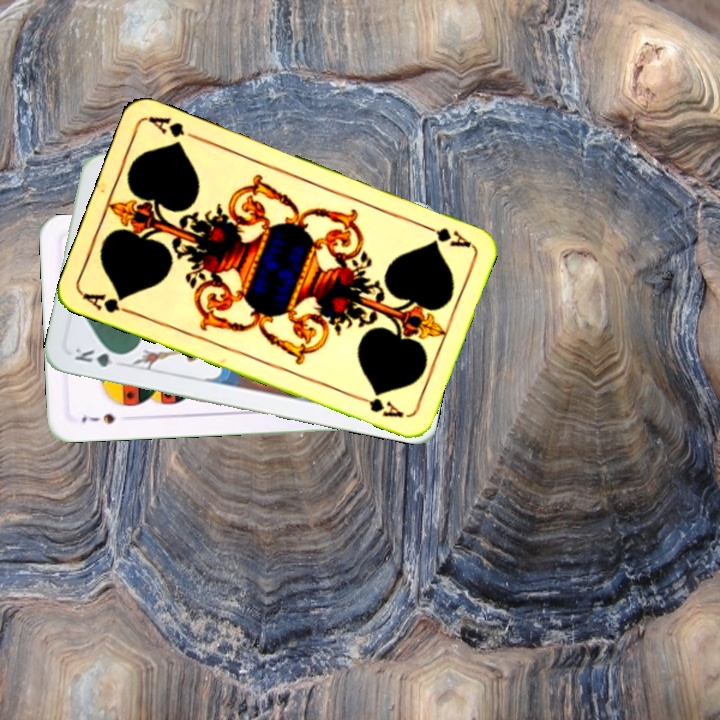GA: (417, 220, 474, 251), (79, 289, 137, 317)
GK: (70, 344, 128, 370)
S7: (78, 409, 118, 428)
